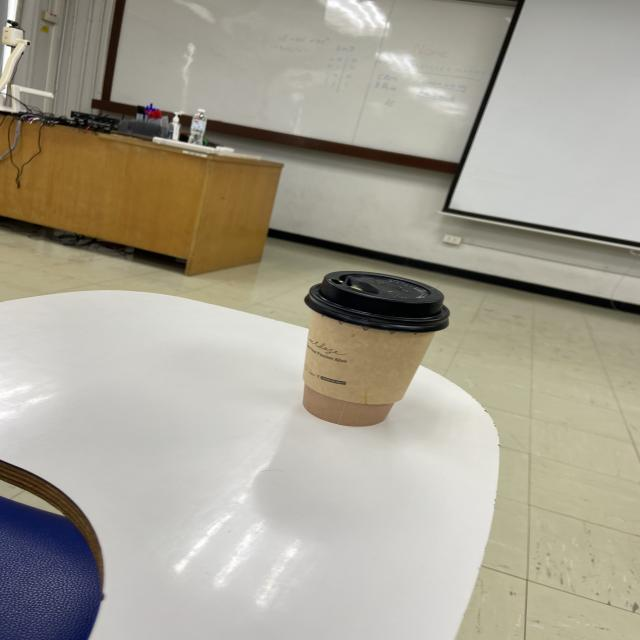cup: (302, 269, 450, 427)
